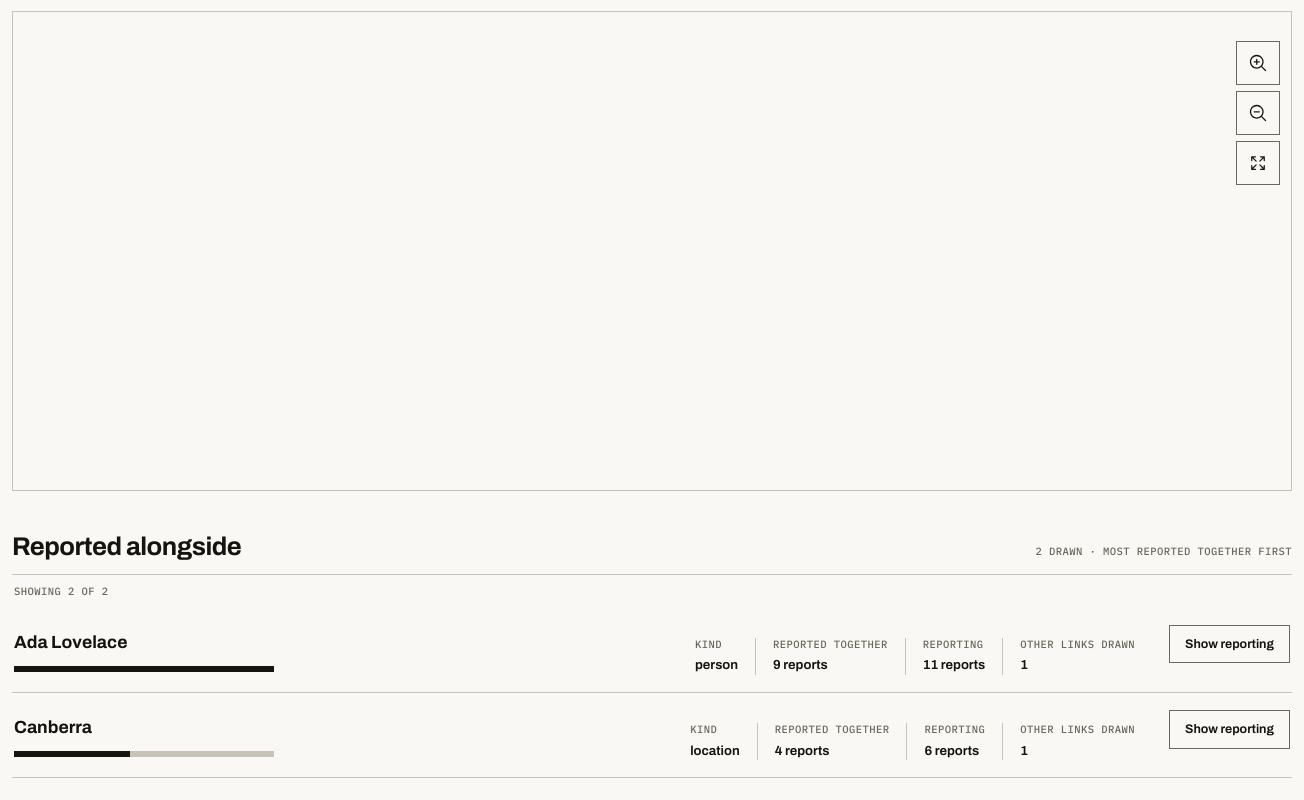
Test: An Entity's neighbourhood — the reporting under one link › reads the link's evidence under the facet in force
(page scrolled)
Click the button "Show reporting" in the row of "Ada Lovelace".
click(1230, 644)  # box [1169,625,1290,663]
(page scrolled)
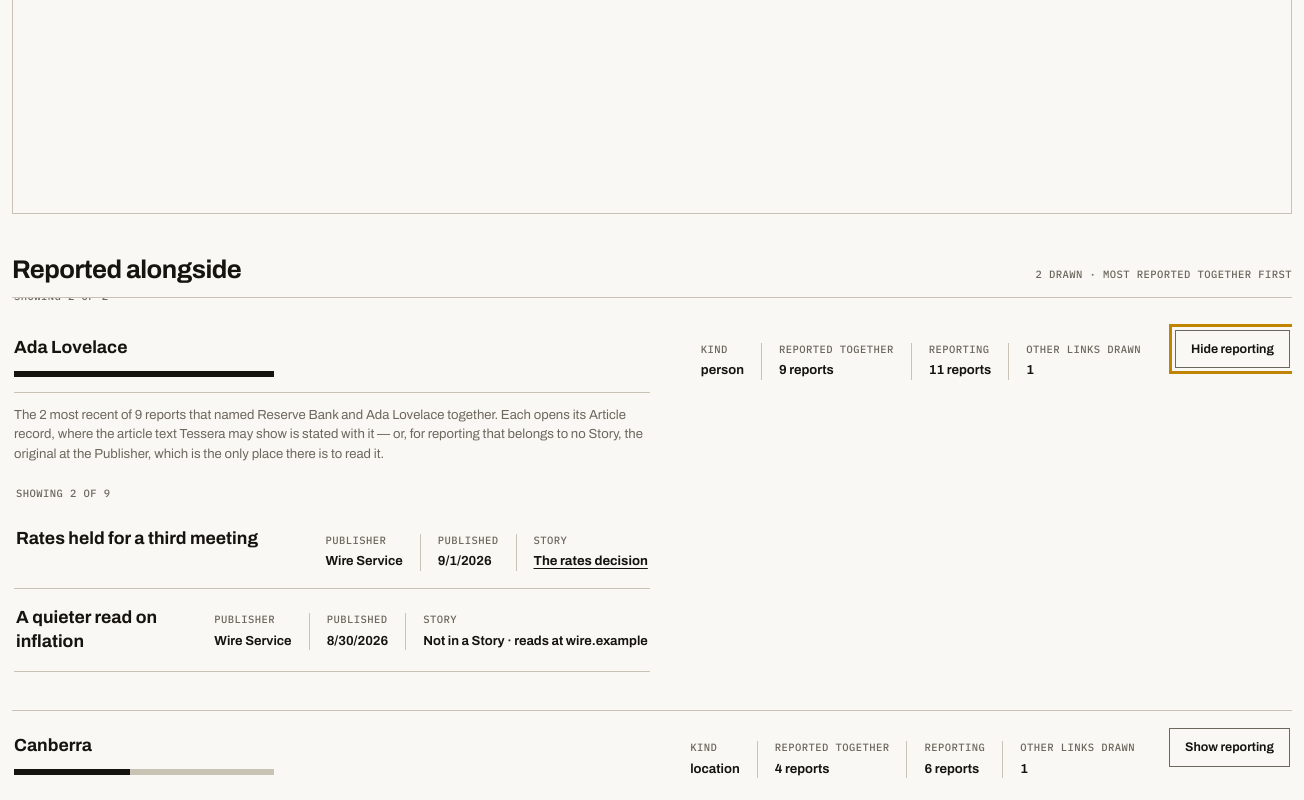
Result: the link "Rates held for a third meeting" is shown at [16,526,274,550]
